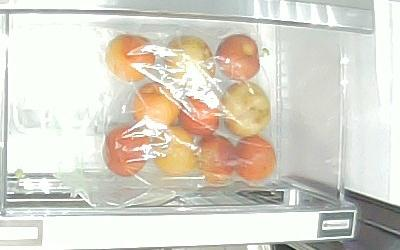prune_vinyl: (163, 33, 217, 95), (221, 82, 272, 138), (102, 124, 150, 177), (132, 81, 180, 133), (104, 35, 155, 83), (216, 33, 262, 83), (153, 127, 198, 177), (193, 135, 236, 186), (233, 137, 276, 182), (177, 93, 220, 136)
